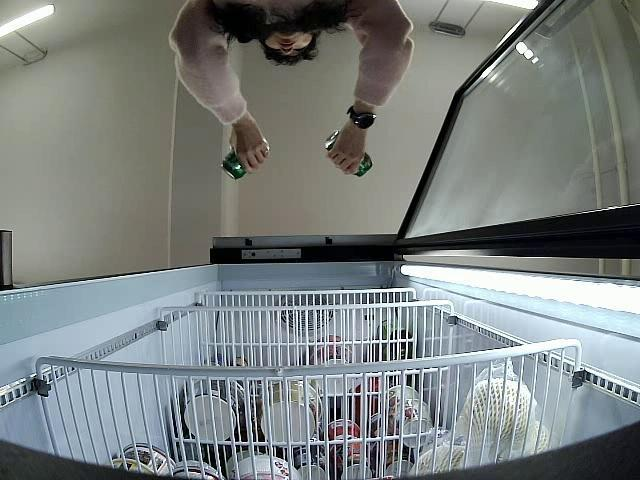12_chilsungCider: (221, 134, 272, 180), (326, 132, 374, 180)
